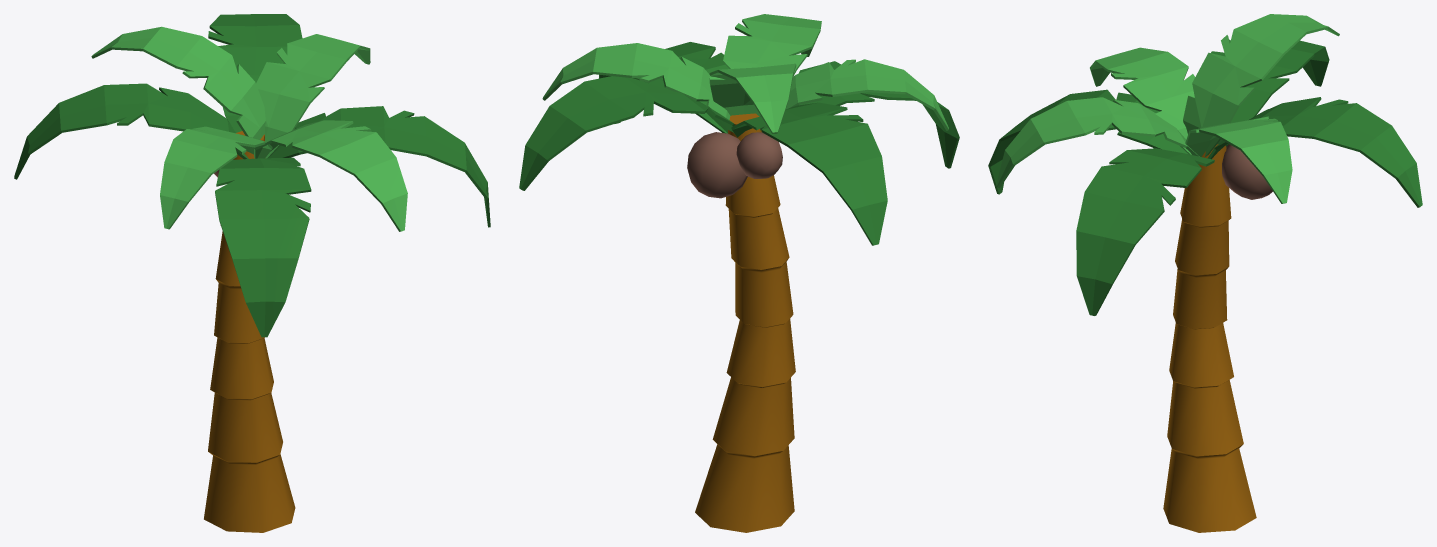
The model's file is Coconut_Tree2.fbx.
3 views of the same model, side by side, from view 1: azimuth 30°, elevation 25°; view 2: azimuth 150°, elevation 25°; view 3: azimuth 270°, elevation 25° (orthographic). The views are drawn at different scales.
Parts seen in each view (by area): view 1: Coconut_Tree2; view 2: Coconut_Tree2; view 3: Coconut_Tree2.
Part boxes in pixels (bbox=[...]): Coconut_Tree2: bbox=[14, 14, 490, 532]; Coconut_Tree2: bbox=[519, 14, 959, 532]; Coconut_Tree2: bbox=[988, 14, 1422, 532].
Size of the model in its own units: 1557 by 1850 by 1577.
